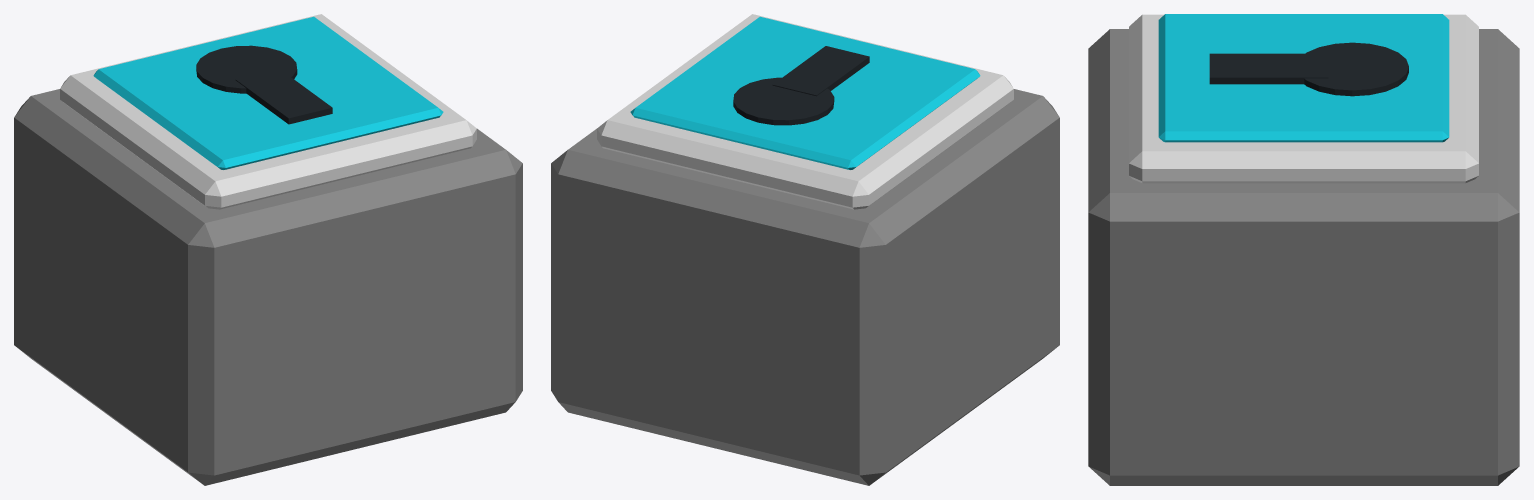
Rendered from door-blue.glb.
The picture shows the model from 3 angles, left to right: view 1: azimuth 30°, elevation 25°; view 2: azimuth 150°, elevation 25°; view 3: azimuth 270°, elevation 25°; orthographic projection. The views are drawn at different scales.
Visible parts, largest first — view 1: door-blue; view 2: door-blue; view 3: door-blue.
Part boxes in pixels (<box>): door-blue: <box>14,14,522,485</box>; door-blue: <box>551,14,1059,485</box>; door-blue: <box>1088,14,1519,485</box>.
Size of the model in its own units: 0.8 by 0.693 by 0.8.
